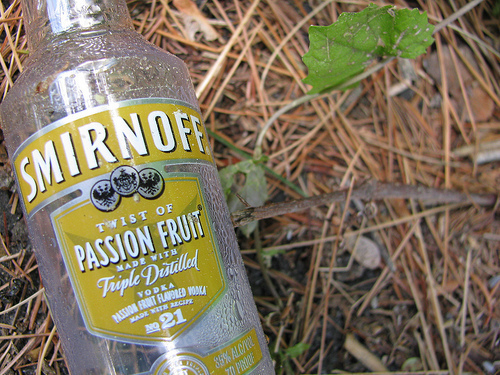litter: (2, 1, 276, 362)
